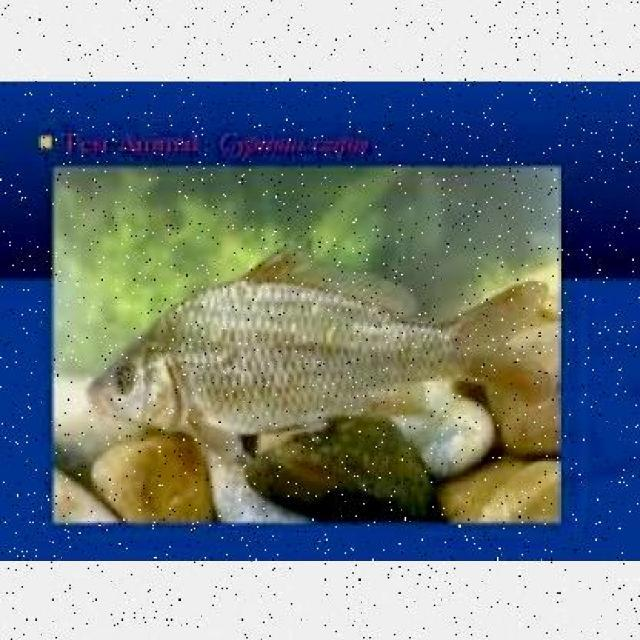ikan-mas: (83, 256, 542, 437)
